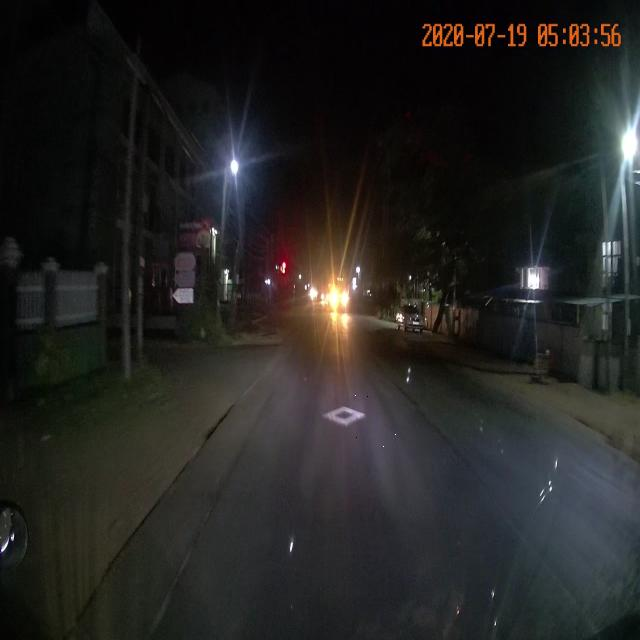diamond: (300, 395, 397, 466)
